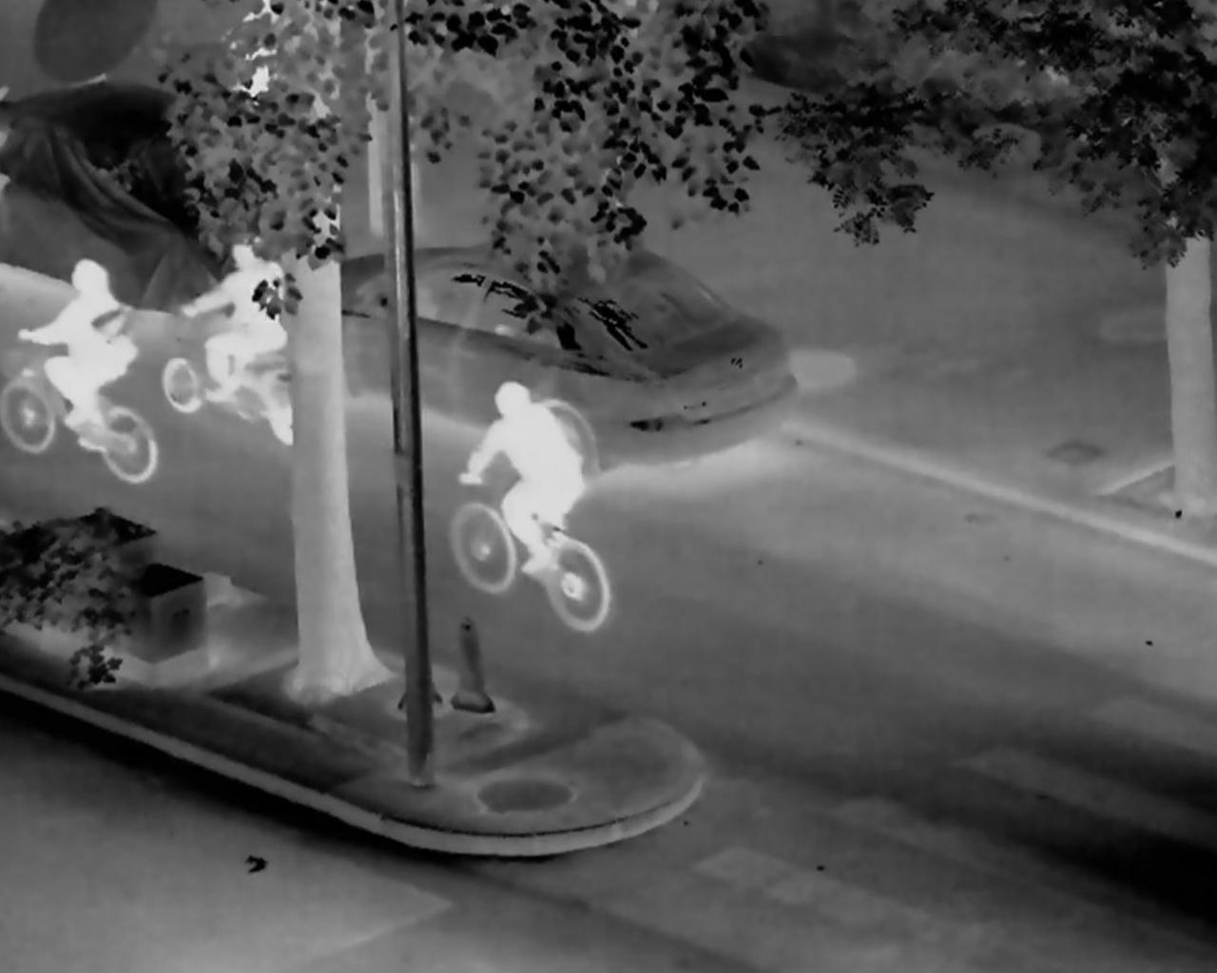person: (462, 381, 584, 575), (20, 258, 139, 437), (182, 237, 287, 387)
